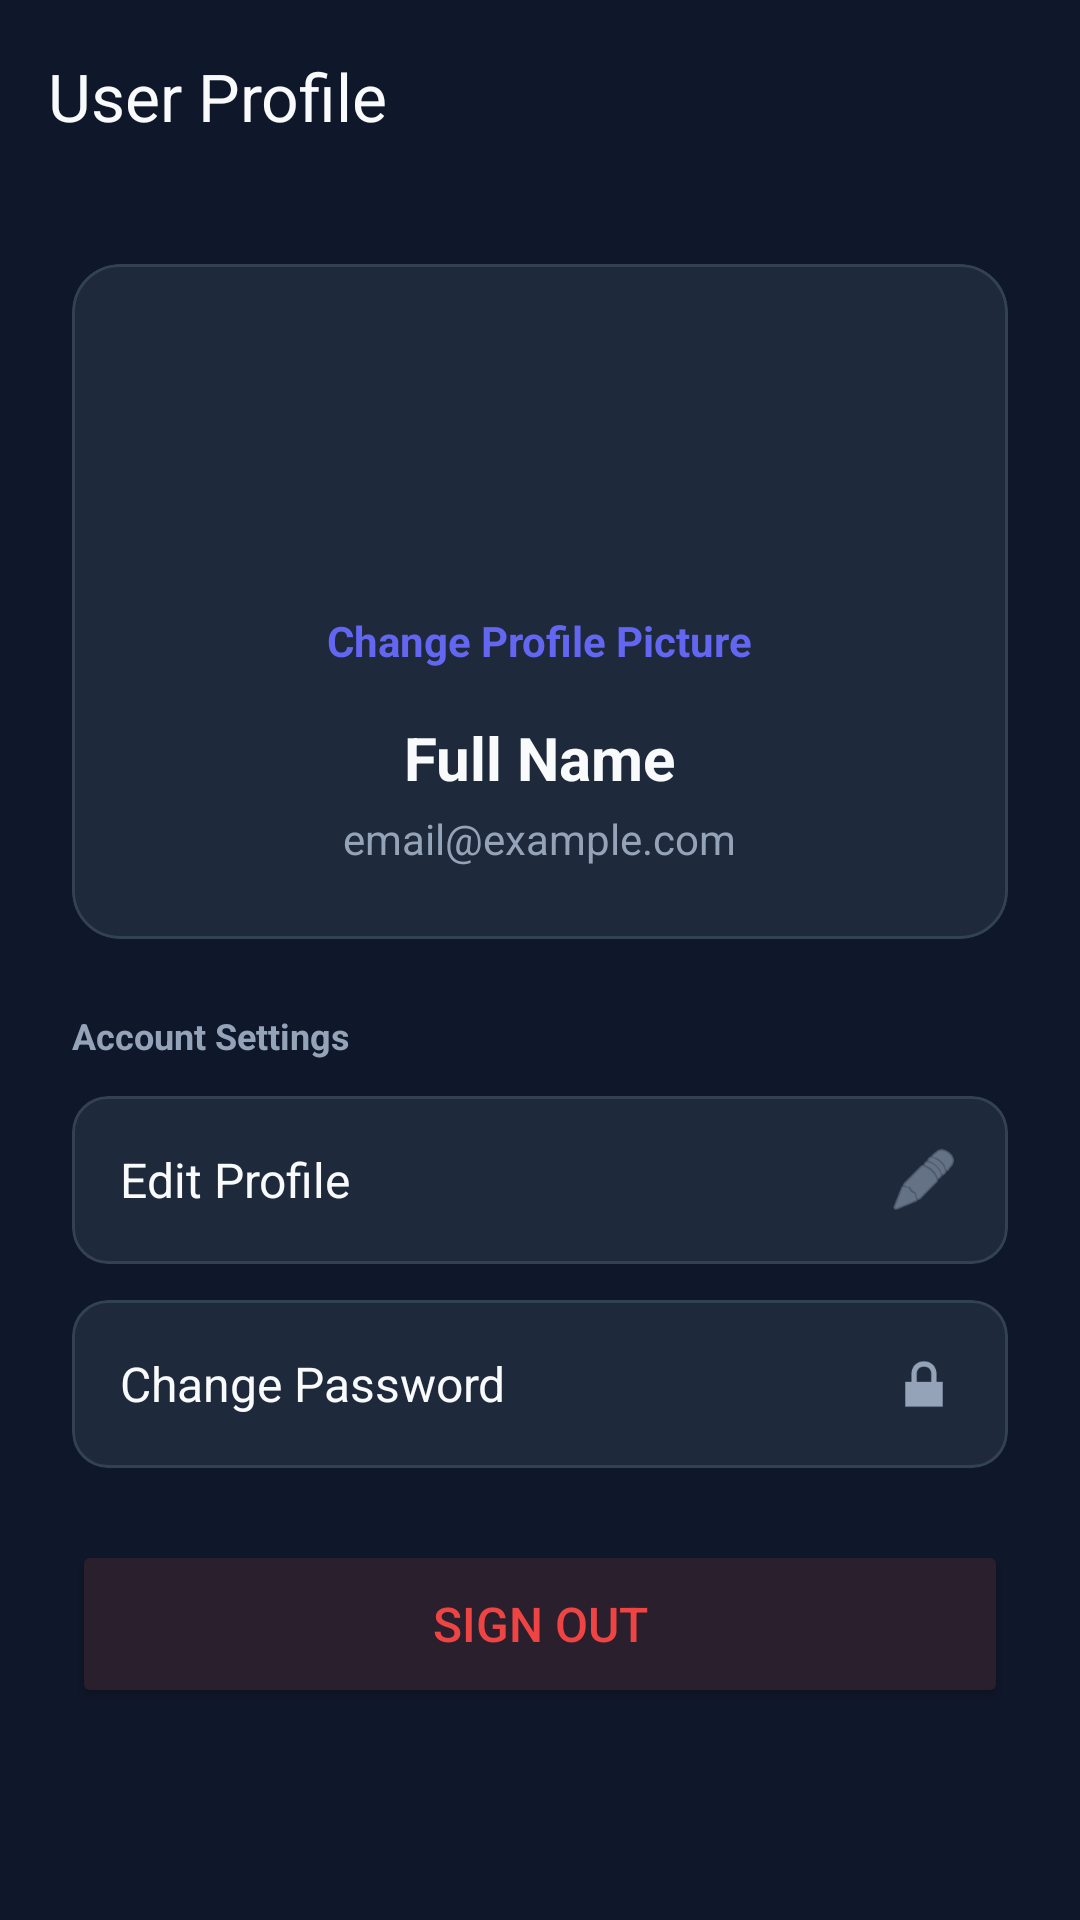

Icon click points for this 1080*1920 phone screenshot, format [x,y]:
Lock: [924,1384]
